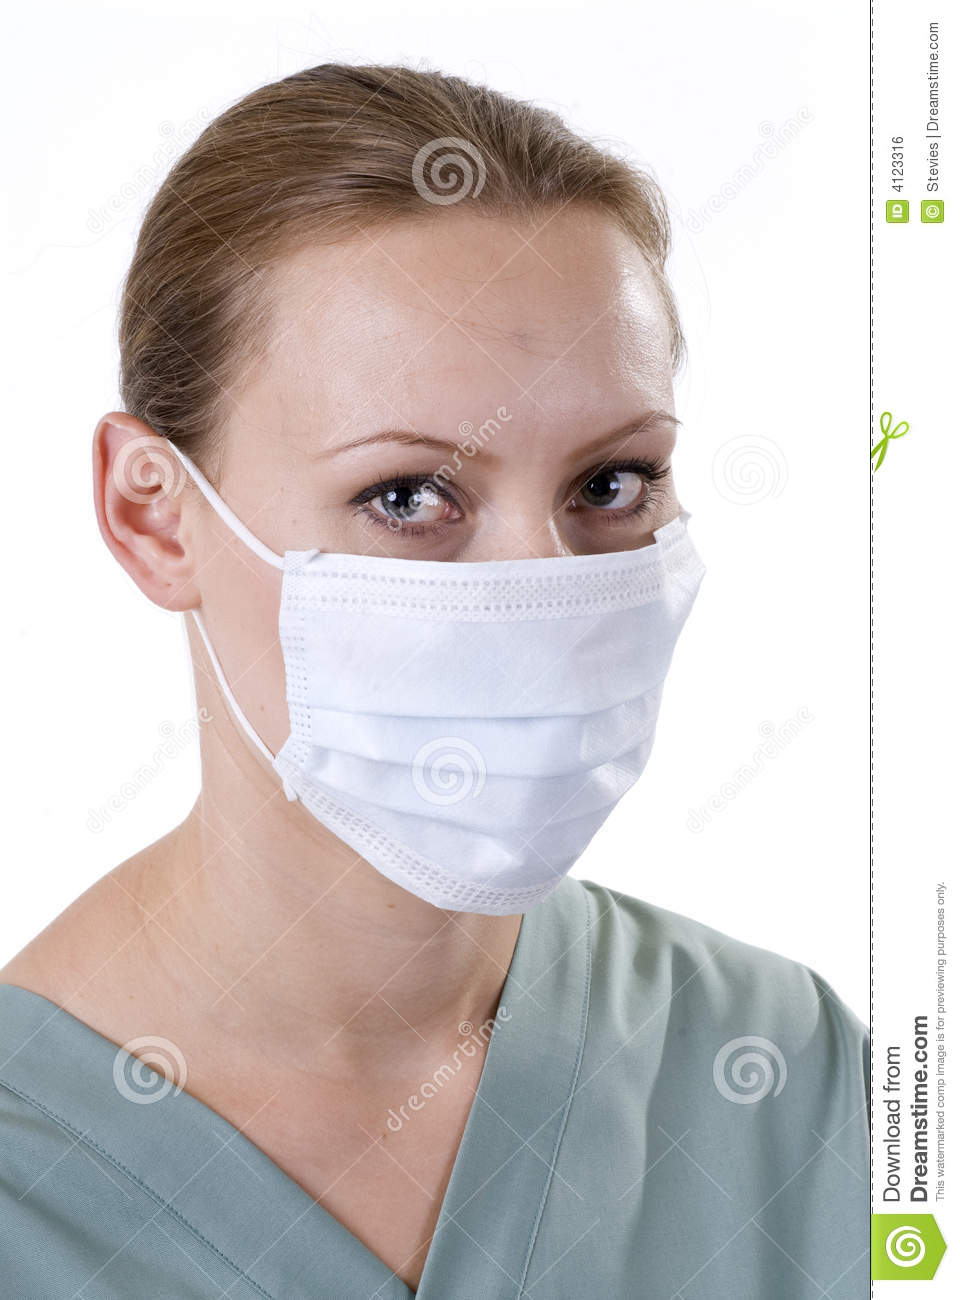mask: (276, 551, 732, 929)
